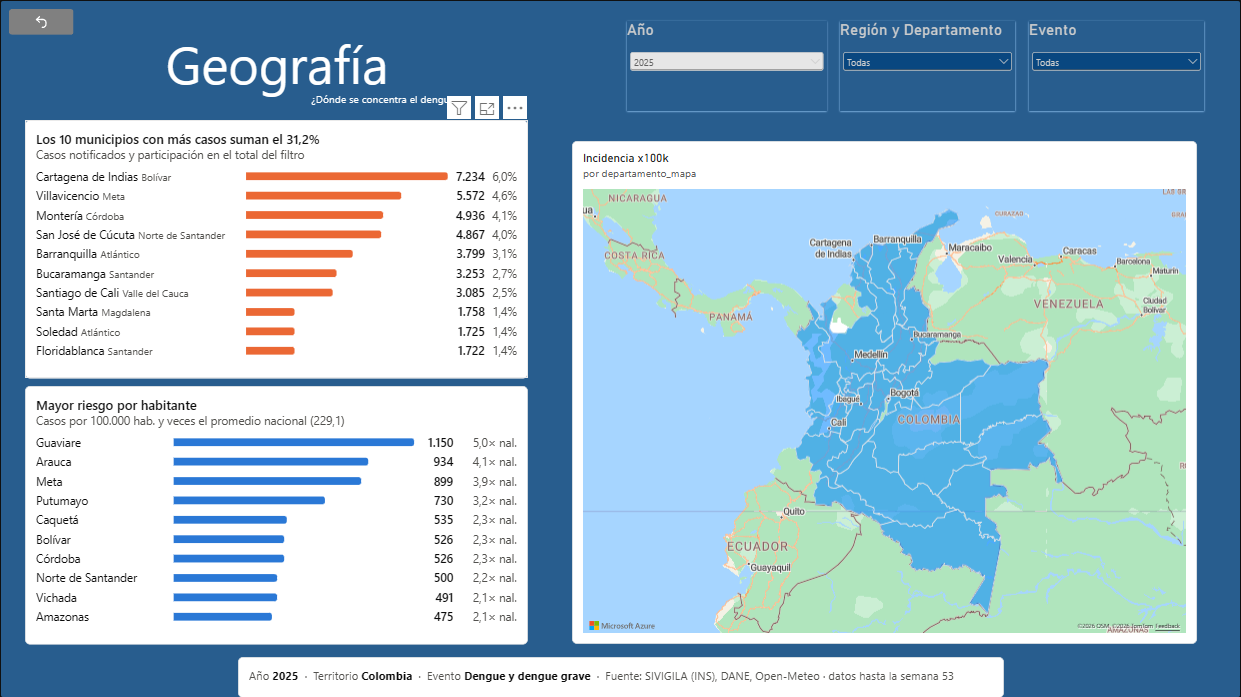

Layout of this report page (visuals, bound fields, positions):
{"tool":"powerbi","page":{"name":"Página 2","canvas":[1920,1080],"ordinal":1},"visuals":[{"type":"htmlContent443BE3AD55E043BF878BED274D3A6855","fields":{"content":["_Medidas.HTML Contexto"]},"box":[367.7,1016.9,1184.7,62.7],"z":0},{"type":"htmlContent443BE3AD55E043BF878BED274D3A6855","fields":{"content":["_Medidas.HTML P2 Concentracion Municipios"]},"box":[39.4,185.3,777.6,399.8],"z":1},{"type":"htmlContent443BE3AD55E043BF878BED274D3A6855","fields":{"content":["_Medidas.HTML P2 Incidencia Departamentos"]},"box":[39.4,596.7,778,400],"z":2},{"type":"textbox","box":[176.5,43.8,504.8,116.7],"z":3},{"type":"slicer","title":"Año","fields":{"Values":["dim_tiempo.anio"]},"box":[970.2,32.1,309.3,138.6],"z":4},{"type":"slicer","title":"Región y Departamento","fields":{"Values":["dim_departamento.region","dim_departamento.departamento"]},"box":[1299.9,32.1,271.4,138.6],"z":5},{"type":"slicer","title":"Evento","fields":{"Values":["dim_evento.evento"]},"box":[1591.7,32.1,271.4,138.6],"z":6},{"type":"actionButton","box":[14.6,14.6,100,40],"z":7},{"type":"azureMap","fields":{"Category":["dim_departamento.departamento_mapa"]},"box":[885.6,218.8,967.3,777.6],"z":8},{"type":"textbox","box":[481.2,142.3,266.1,32.5],"z":9}]}

Visuals, with their boxes in screenshot pixels (x1, y1, x2, y2), scaled from the page's 1920x1080 canvas onto the 1241x697 screenshot:
htmlContent443BE3AD55E043BF878BED274D3A6855 - _Medidas.HTML Contexto: x1=238 y1=656 x2=1003 y2=696
htmlContent443BE3AD55E043BF878BED274D3A6855 - _Medidas.HTML P2 Concentracion Municipios: x1=25 y1=120 x2=528 y2=378
htmlContent443BE3AD55E043BF878BED274D3A6855 - _Medidas.HTML P2 Incidencia Departamentos: x1=25 y1=385 x2=528 y2=643
textbox: x1=114 y1=28 x2=440 y2=104
"Año" slicer: x1=627 y1=21 x2=827 y2=110
"Región y Departamento" slicer: x1=840 y1=21 x2=1016 y2=110
"Evento" slicer: x1=1029 y1=21 x2=1204 y2=110
actionButton: x1=9 y1=9 x2=74 y2=35
azureMap - dim_departamento.departamento_mapa: x1=572 y1=141 x2=1198 y2=643
textbox: x1=311 y1=92 x2=483 y2=113
